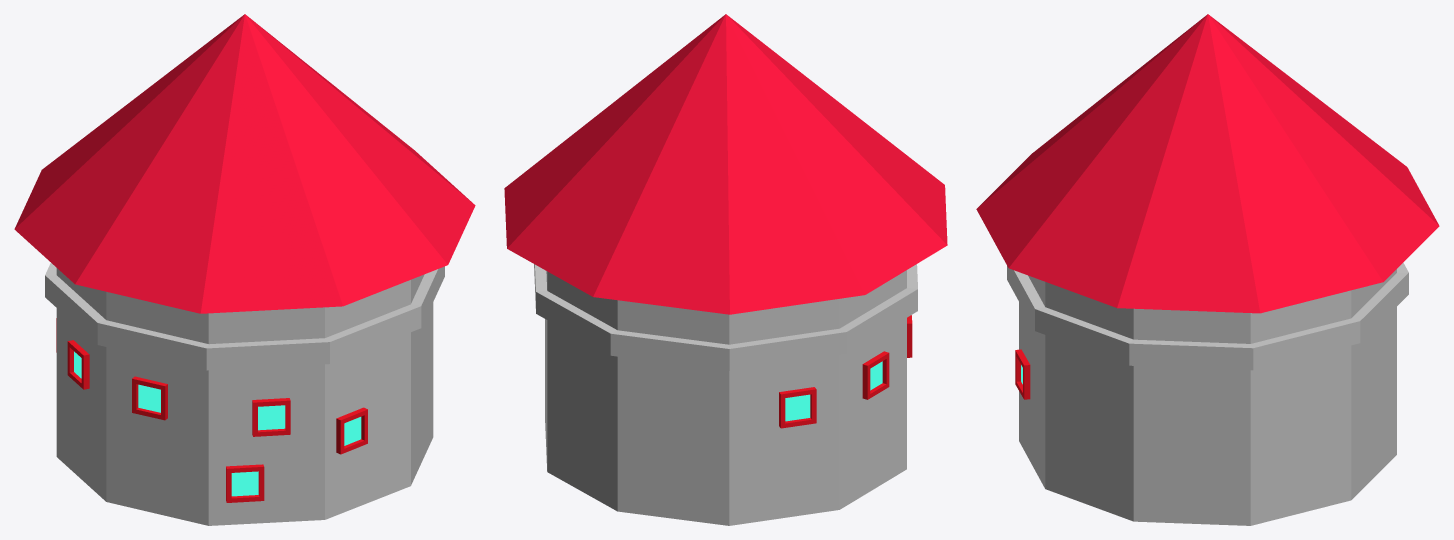
File: castle2.glb
The picture shows the model from 3 angles, left to right: view 1: azimuth 30°, elevation 25°; view 2: azimuth 150°, elevation 25°; view 3: azimuth 270°, elevation 25°; orthographic projection.
Parts seen in each view (by area): view 1: Cylinder; view 2: Cylinder; view 3: Cylinder.
Boxes of the visible parts, x1,y1,x2,y2 form: Cylinder: [14, 14, 475, 525]; Cylinder: [504, 14, 947, 525]; Cylinder: [976, 14, 1439, 525].
Bounding box in the file's own units: 5.73 × 6.05 × 5.86.
